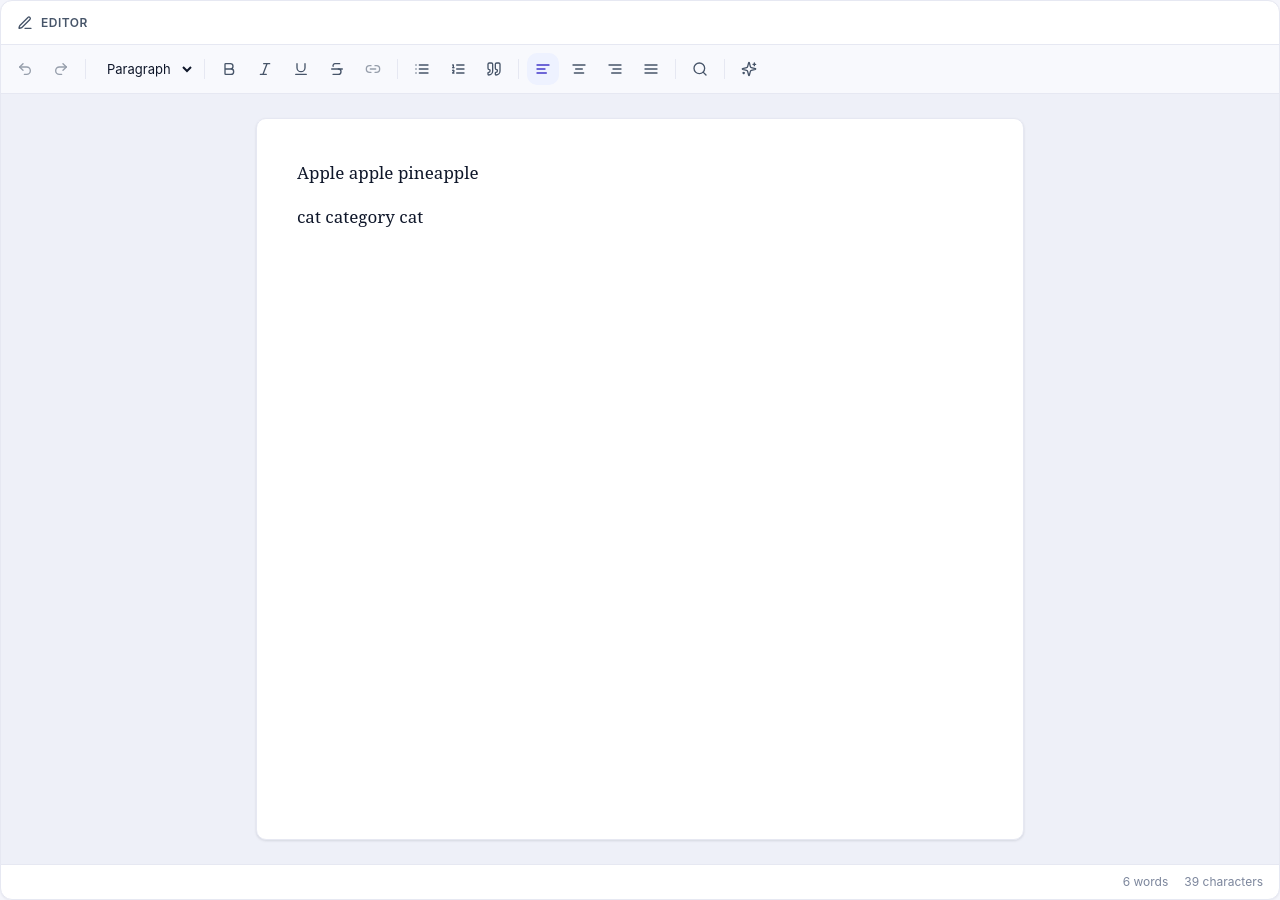
Scenario: Editor find and replace › keeps case and whole-word options in sync with the match count
Click the button named "Find in document" at (700, 69), box [684,53,716,85]
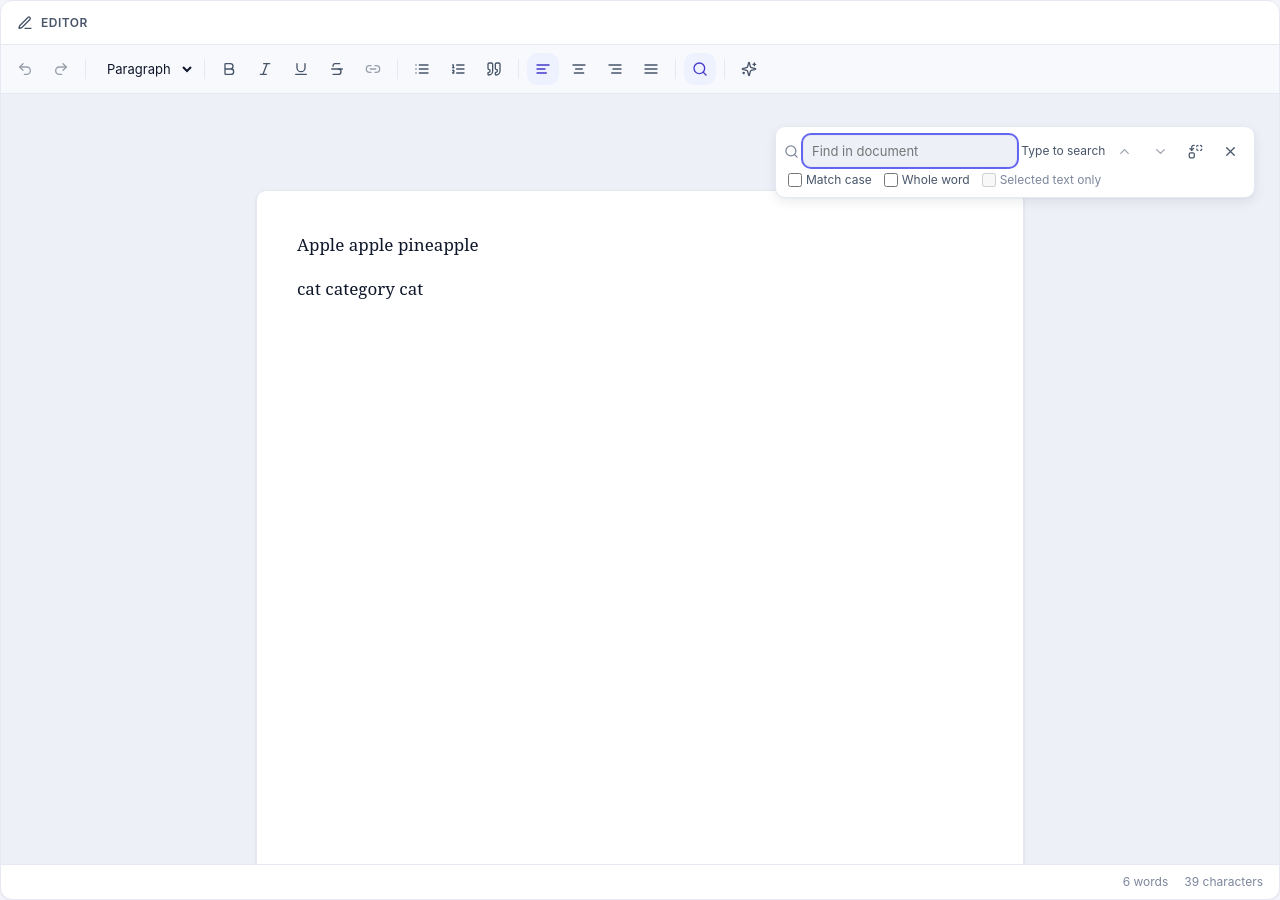
Check: the form named "Find and replace" is shown, box [775,126,1255,198]
Type "apple" into the field labelled "Find in document" at (910, 151), box [803,135,1017,167]
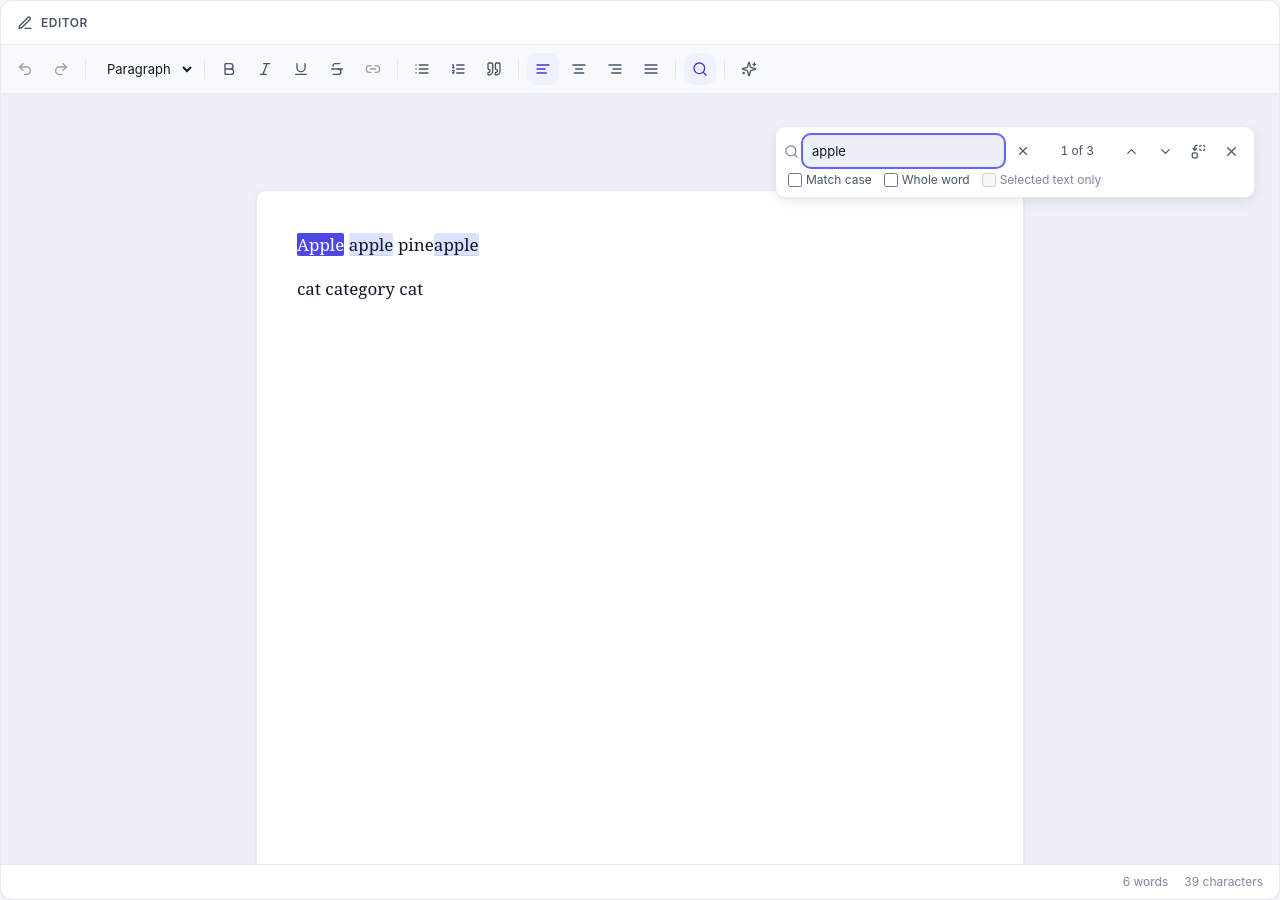
Check: the text "1 of 3" is shown, box [1060,143,1094,158]
Click the checkbox labelled "Match case" at (795, 180), box [788,173,802,187]
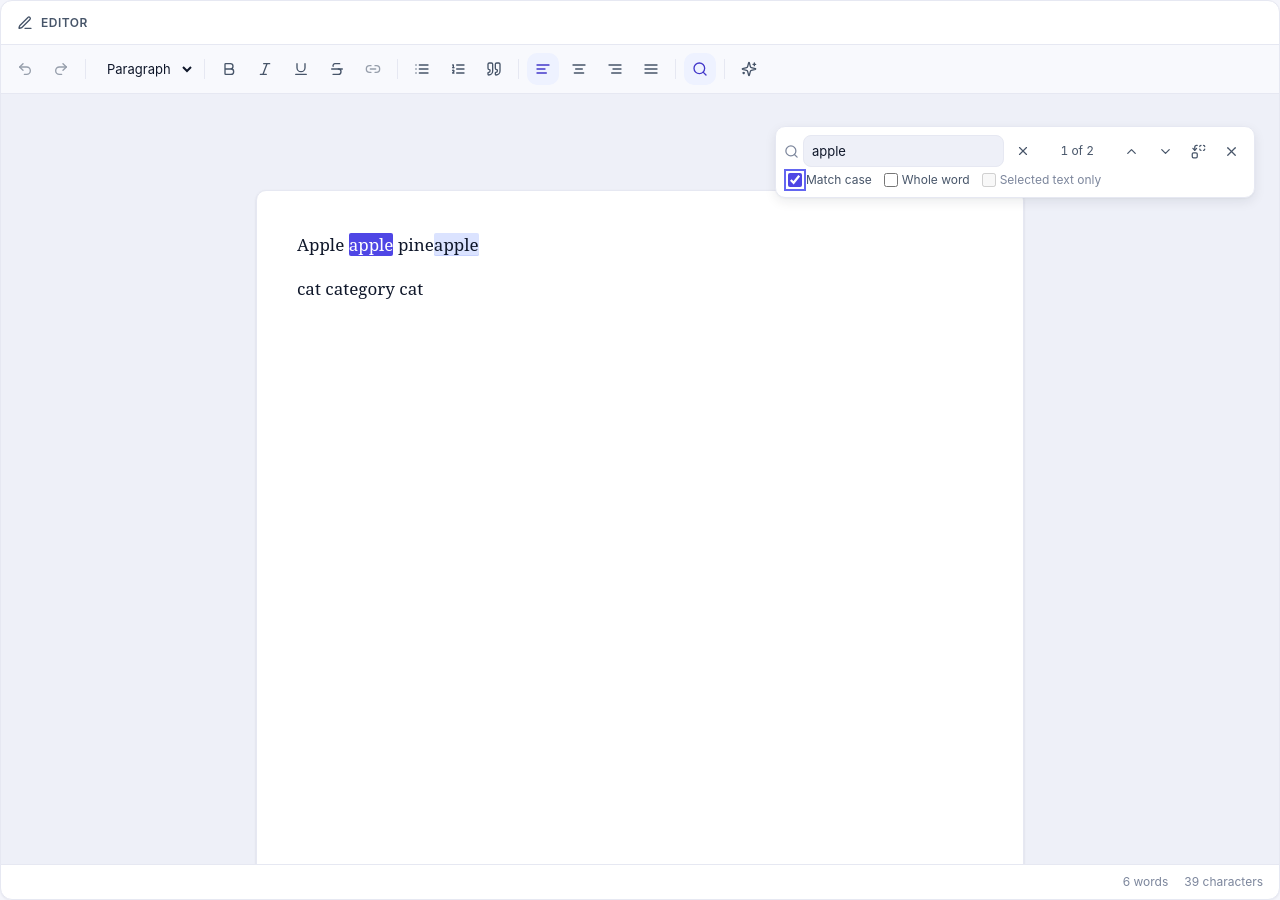
Check: the text "1 of 2" is shown, box [1060,143,1094,158]
Clear the field named "Find in document" at (904, 151), box [803,135,1004,167]
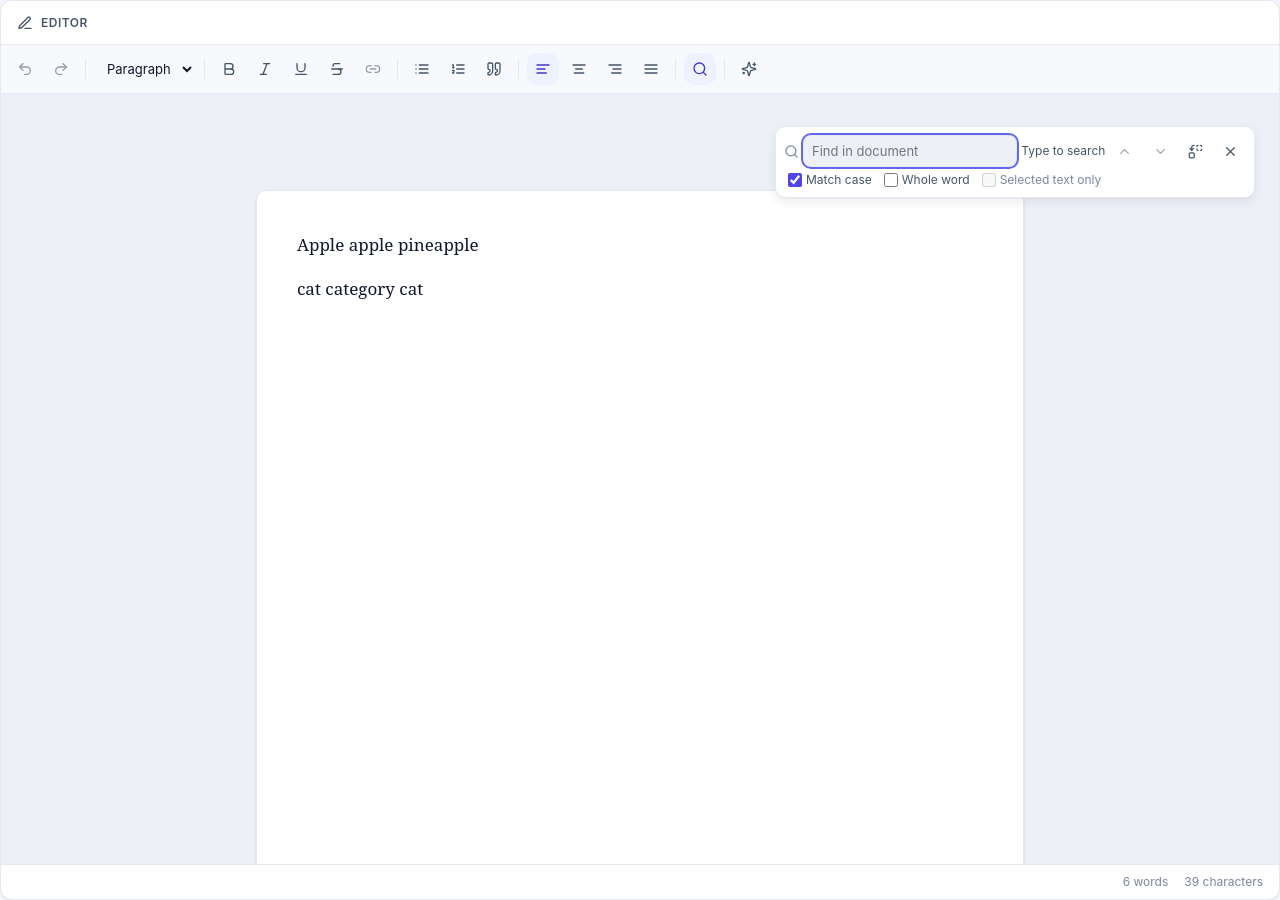
Type "cat" into the field labelled "Find in document" at (910, 151), box [803,135,1017,167]
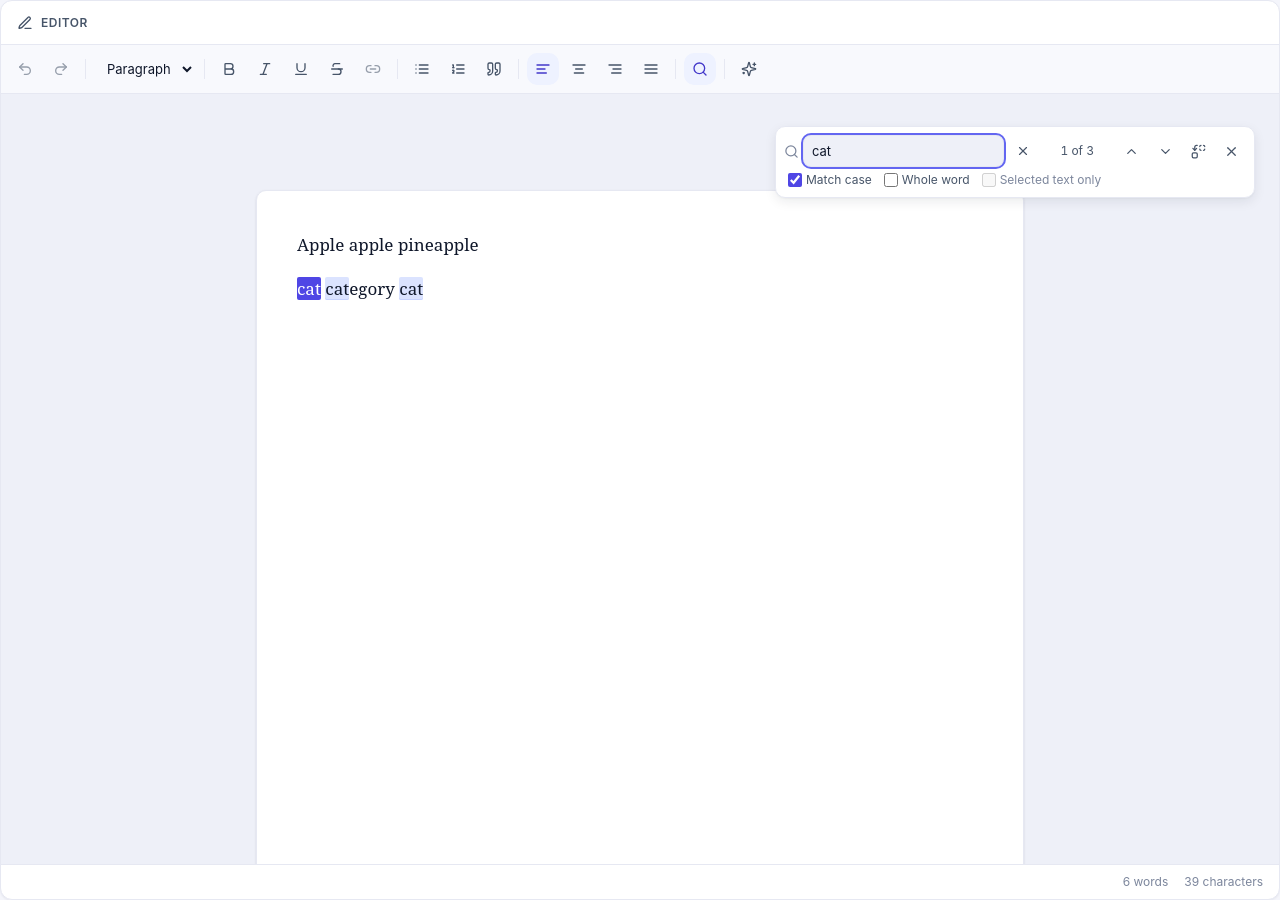
Check: the text "1 of 3" is shown, box [1060,143,1094,158]
Click the checkbox labelled "Whole word" at (891, 180), box [884,173,898,187]
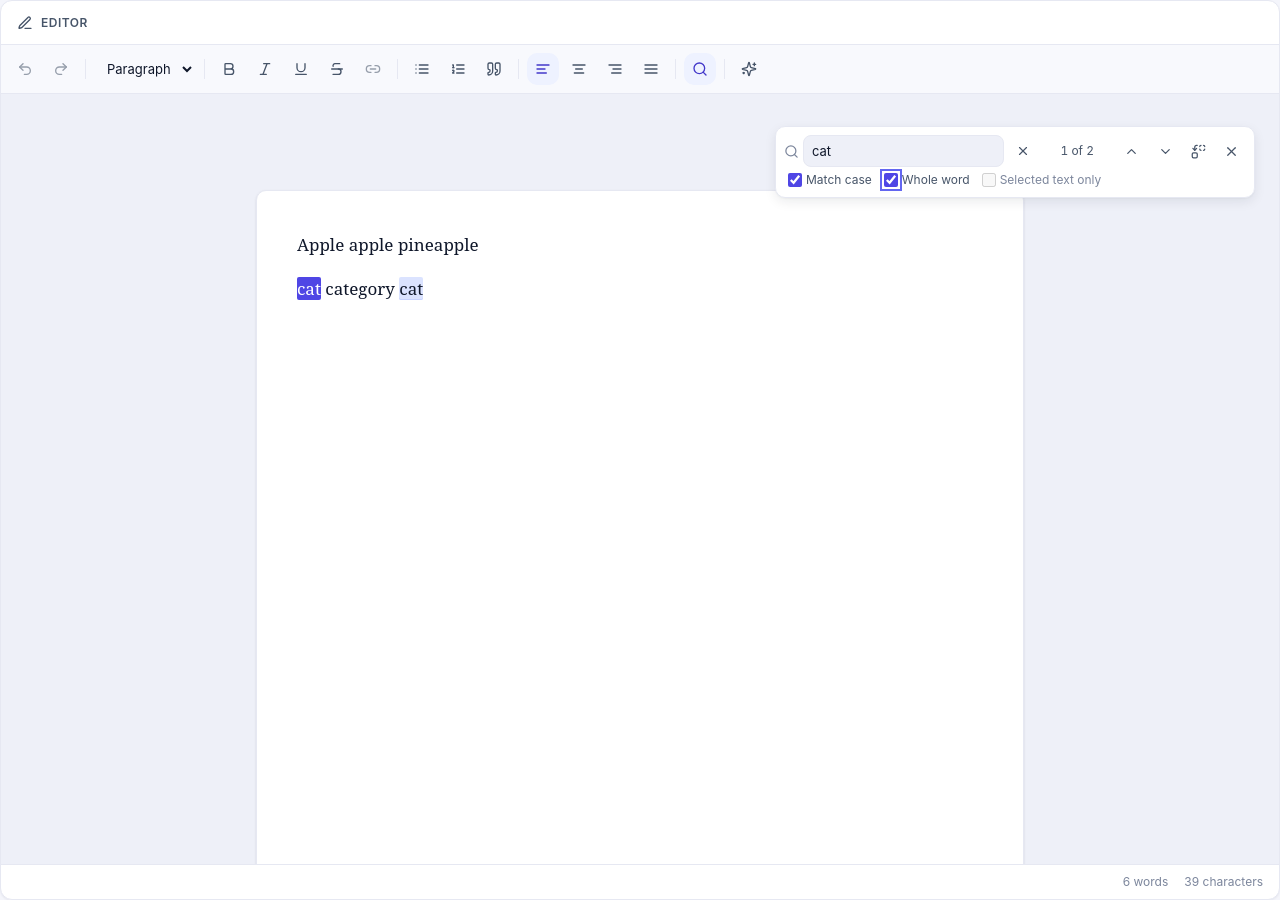
Check: the text "1 of 2" is shown, box [1060,143,1094,158]
